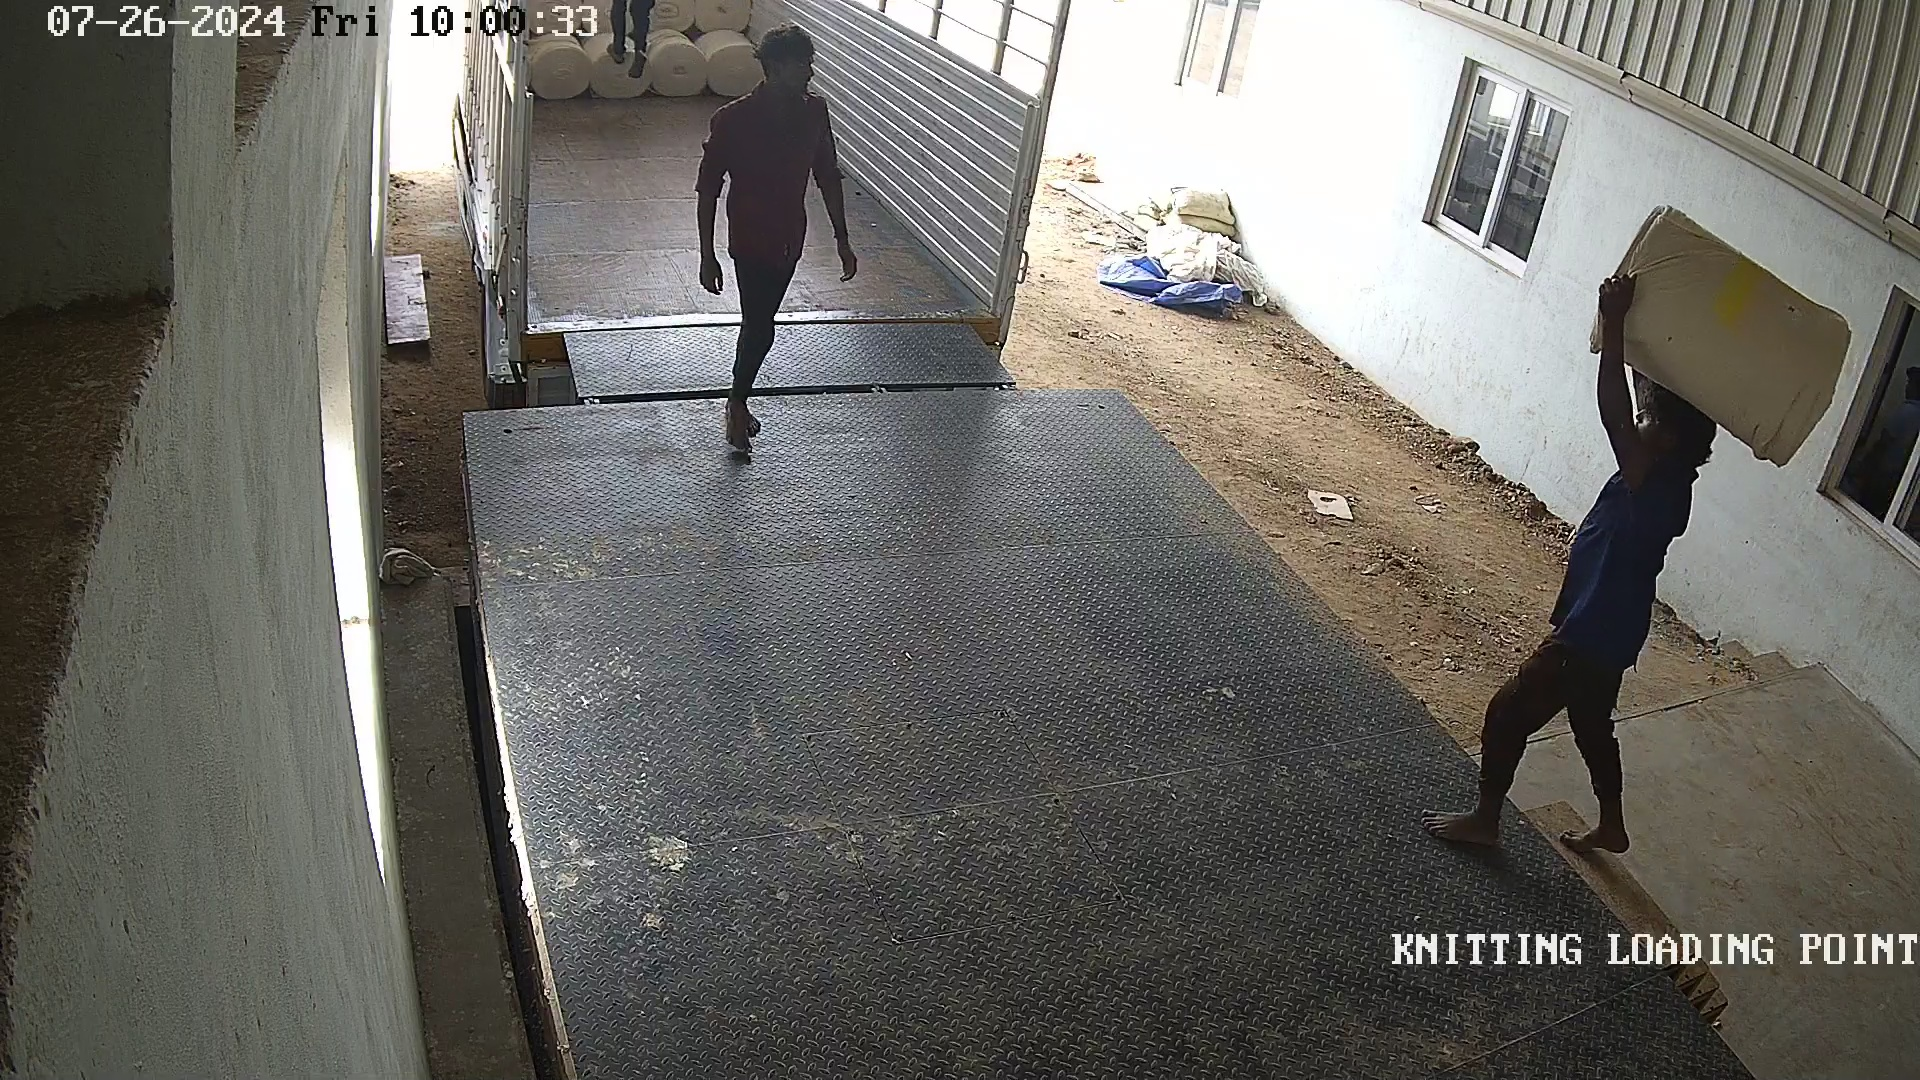bag: (1581, 196, 1861, 471)
